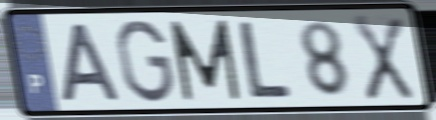8: (295, 18, 354, 99)
A: (59, 20, 125, 105)
G: (113, 17, 177, 106)
L: (235, 18, 294, 100)
M: (166, 16, 244, 104)
X: (349, 12, 417, 104)
